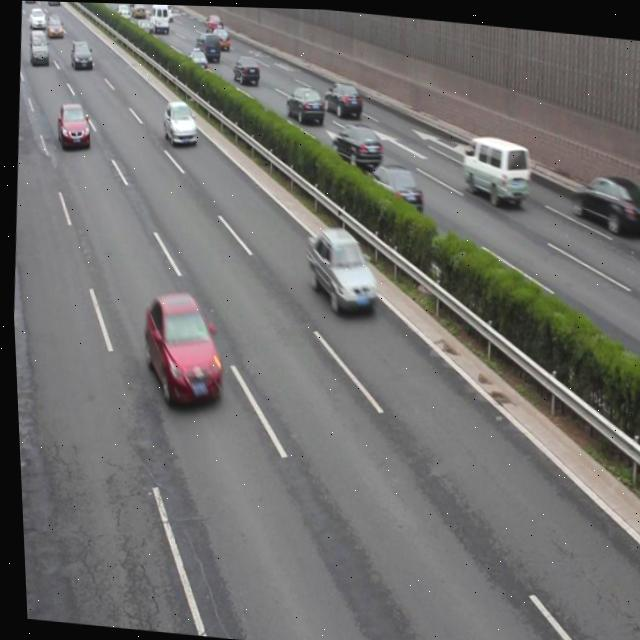car: (136, 289, 226, 410), (300, 221, 379, 314), (567, 167, 640, 236), (361, 159, 422, 209), (328, 121, 383, 167), (52, 101, 92, 150), (159, 98, 197, 147), (320, 78, 363, 117), (283, 83, 323, 121), (230, 51, 260, 85), (68, 38, 93, 70), (184, 44, 208, 73), (209, 21, 231, 49), (134, 15, 154, 38), (205, 12, 223, 35)
truck: (457, 129, 531, 206), (193, 26, 222, 64), (26, 28, 50, 66), (149, 3, 170, 32)
